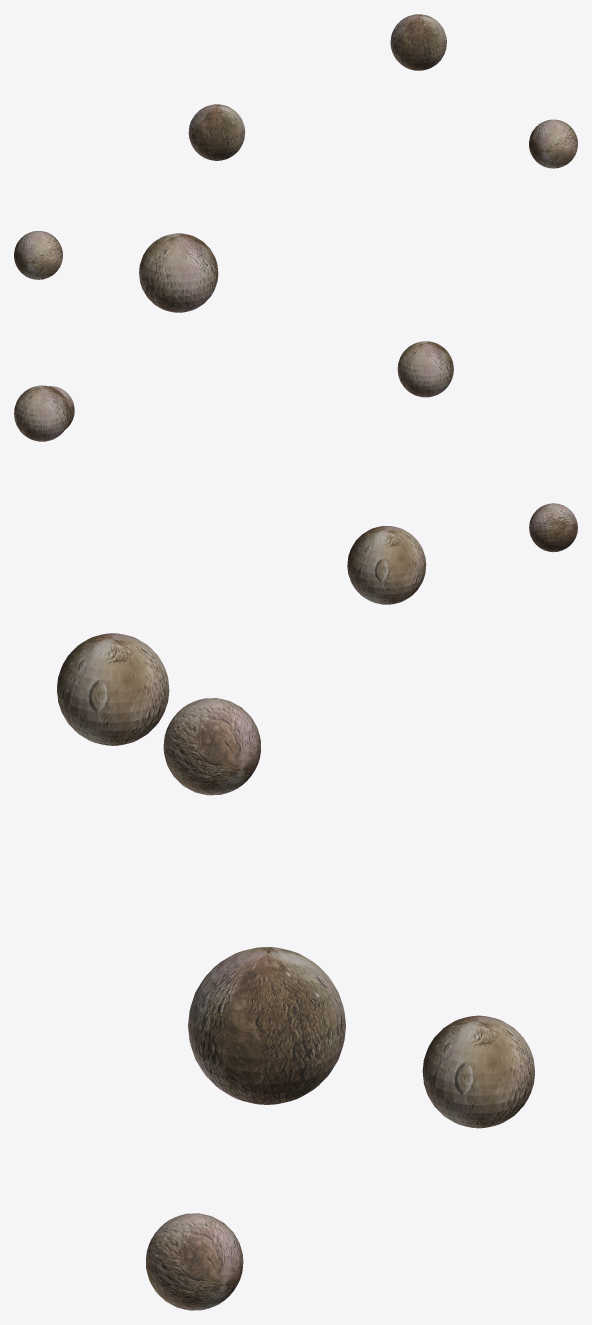
Rendered from asteroids.gltf.
3 renders of one model, top to bottom at view 1: azimuth 30°, elevation 25°; view 2: azimuth 150°, elevation 25°; view 3: azimuth 270°, elevation 25°, orthographic. The views are drawn at different scales.
Parts seen in each view (by area): view 1: Sphere, Sphere.004, Sphere.003, Sphere.002, Sphere.001; view 2: Sphere, Sphere.003, Sphere.004, Sphere.001; view 3: Sphere, Sphere.004, Sphere.003, Sphere.002, Sphere.001.
Boxes of the visible parts, x1,y1,x2,y2 form: Sphere: [139, 233, 218, 312]; Sphere.004: [390, 14, 446, 70]; Sphere.003: [188, 104, 245, 160]; Sphere.002: [529, 119, 577, 168]; Sphere.001: [14, 231, 62, 279]; Sphere: [347, 526, 426, 604]; Sphere.003: [397, 341, 453, 397]; Sphere.004: [14, 385, 70, 441]; Sphere.001: [529, 503, 577, 552]; Sphere: [188, 947, 345, 1104]; Sphere.004: [422, 1015, 534, 1128]; Sphere.003: [57, 633, 169, 745]; Sphere.002: [146, 1213, 243, 1310]; Sphere.001: [163, 698, 260, 795].
Size of the model in its own units: 10.72 by 4.27 by 4.04.
1 material, 1 textured.
